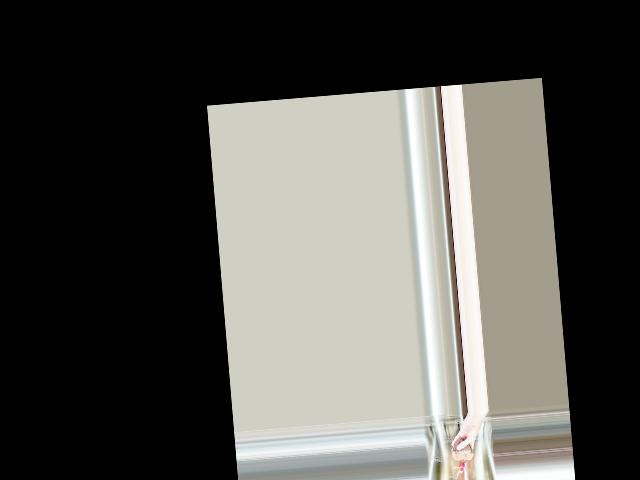beet: (450, 437, 474, 479)
